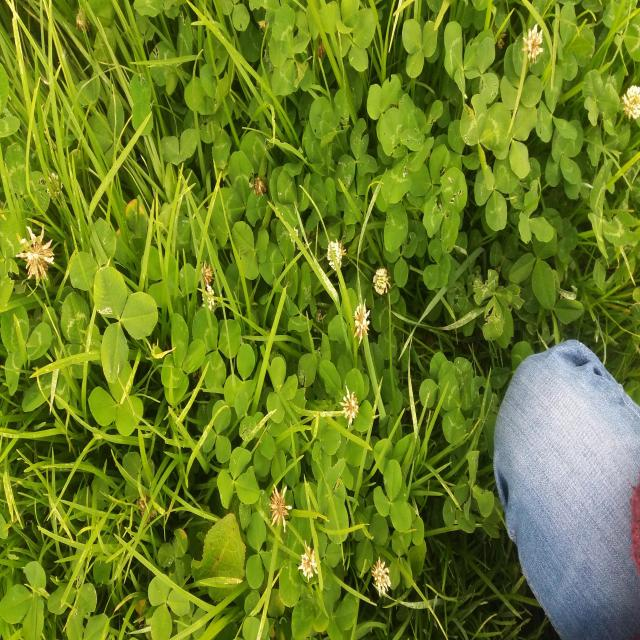Four Leaf Clover: (160, 312, 205, 407), (421, 283, 462, 336), (402, 218, 430, 264), (418, 174, 449, 215)
